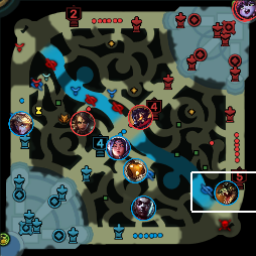bard: (123, 158, 145, 182)
ekko: (130, 195, 155, 219)
ezreal: (8, 111, 32, 135)
irelia: (107, 135, 129, 159)
lulu: (235, 1, 256, 18)
nidalee: (70, 110, 94, 134)
renekton: (215, 180, 238, 204)
viktor: (127, 104, 152, 130)
